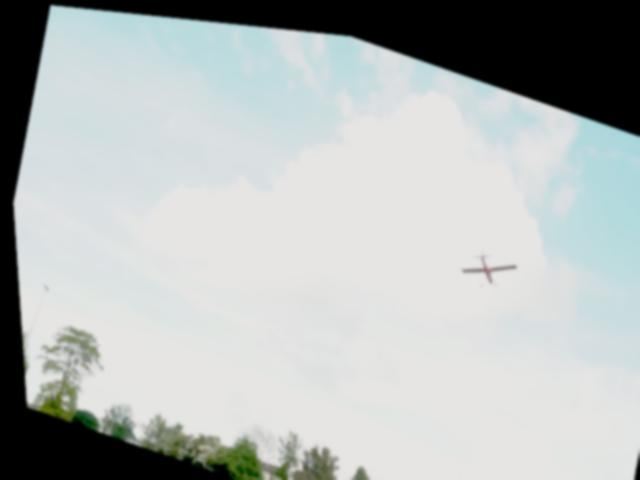plane: (453, 233, 517, 289)
